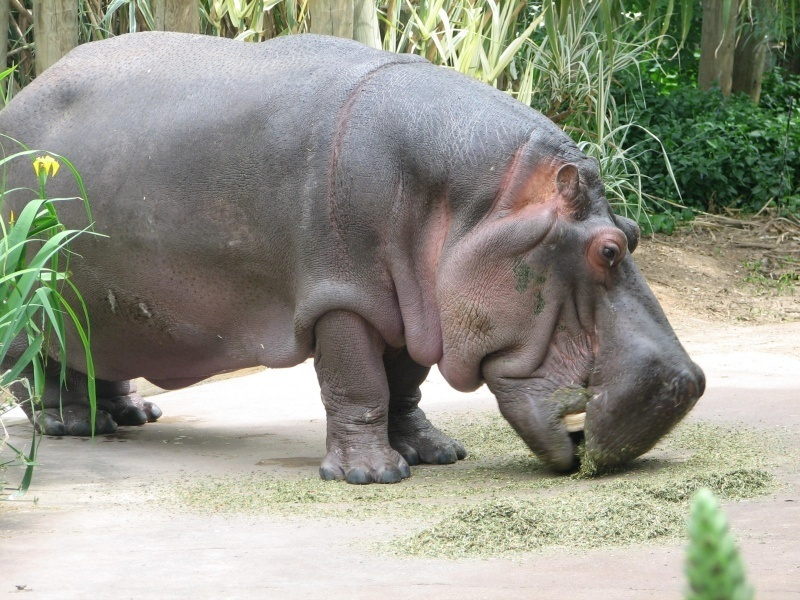hipopotamo: (0, 26, 711, 488)
